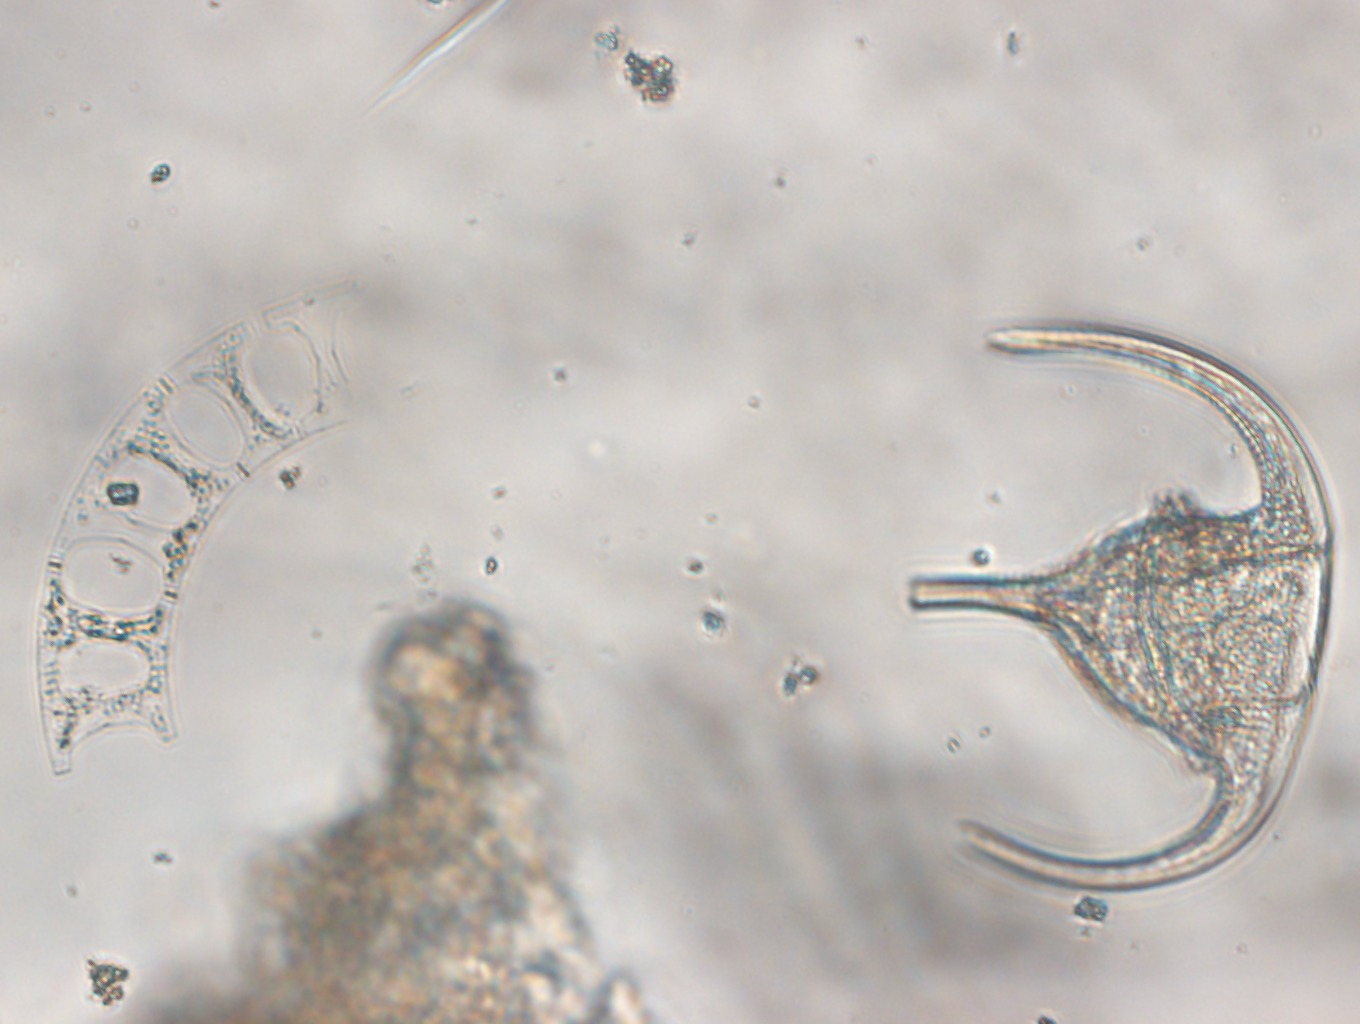ceratium tripos: (906, 321, 1336, 895)
eucampia: (35, 274, 372, 777)
